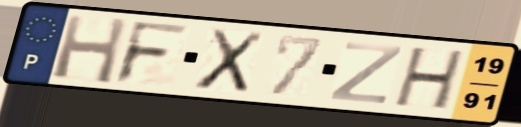7: (268, 32, 326, 99)
F: (111, 19, 194, 87)
H: (49, 13, 131, 87), (389, 45, 470, 113)
X: (191, 26, 268, 95)
Z: (326, 40, 407, 107)
